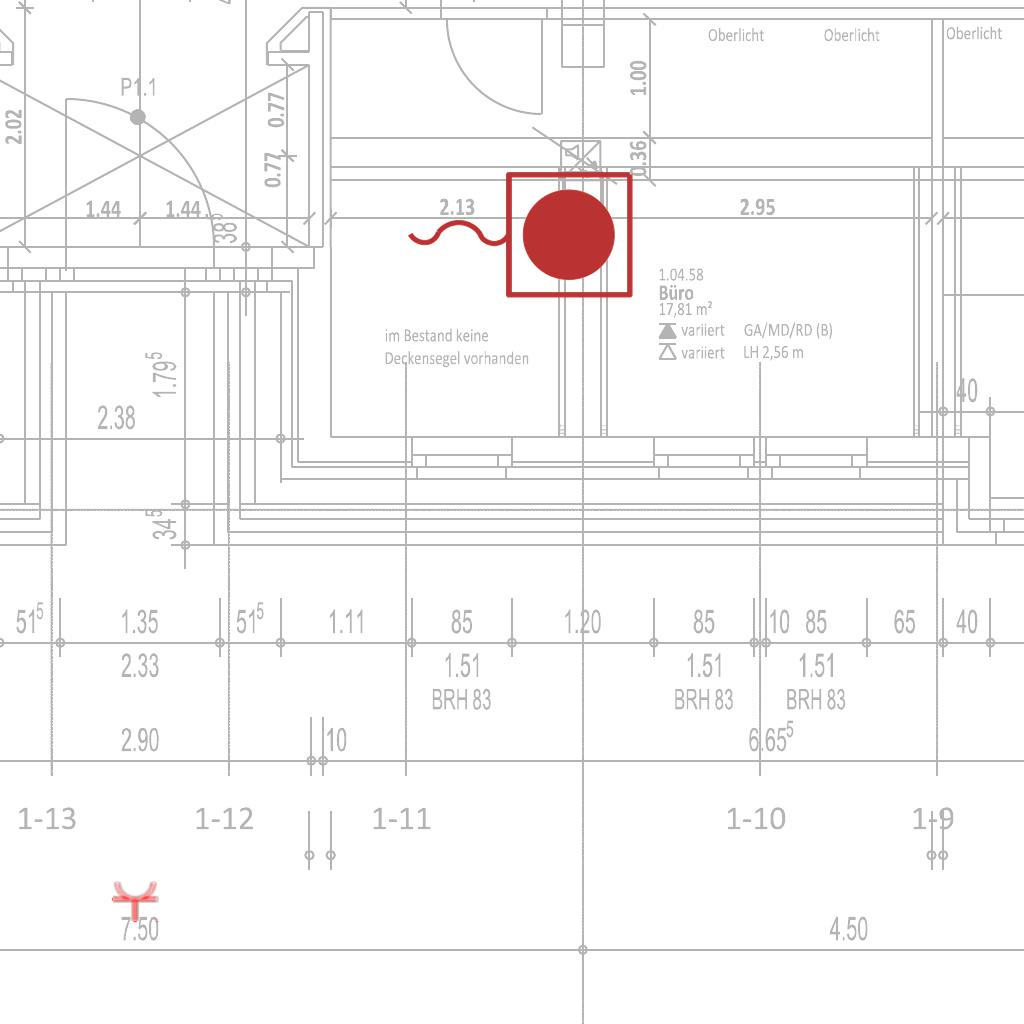Schukosteckdose_einfach: (111, 880, 161, 923)
Zugtaster: (397, 161, 641, 305)
